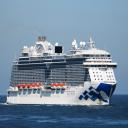cruises: (7, 37, 119, 108)
